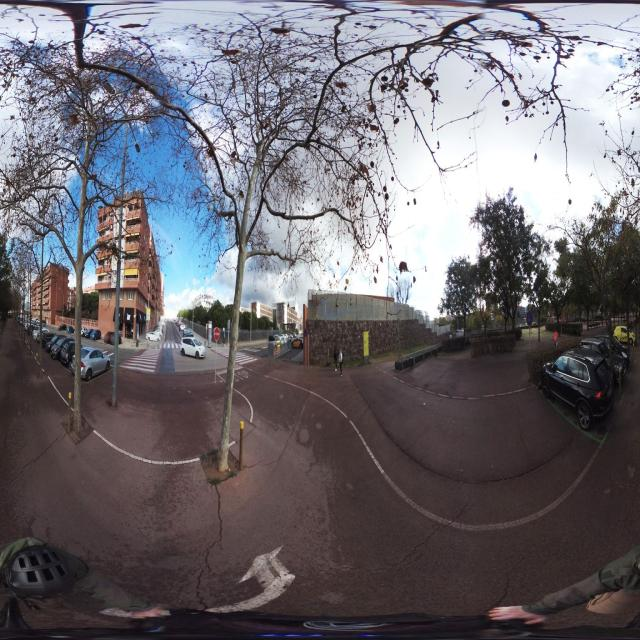forb_stopping: (526, 310, 533, 327), (303, 328, 308, 337)
